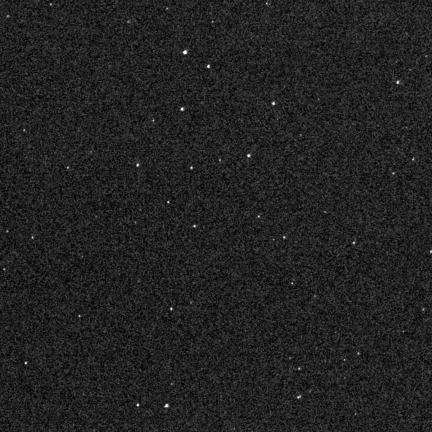blob: (392, 172, 396, 176), (247, 154, 251, 158), (207, 65, 211, 69), (190, 167, 194, 171), (297, 395, 301, 399), (193, 225, 197, 228), (165, 404, 169, 407), (283, 236, 286, 240), (67, 166, 70, 170), (397, 81, 400, 85), (137, 164, 140, 168), (183, 51, 187, 54), (258, 215, 261, 219), (137, 403, 140, 407), (272, 102, 275, 105), (25, 362, 28, 365), (181, 108, 184, 111), (171, 307, 173, 311), (168, 201, 170, 204), (79, 315, 81, 318)
